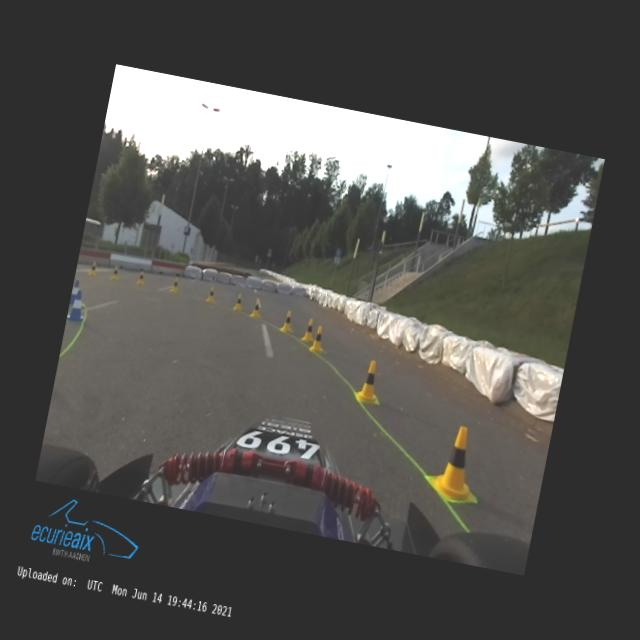blue_cone: (66, 289, 88, 323), (70, 280, 81, 305)
yellow_cone: (428, 422, 486, 503), (354, 358, 386, 404), (310, 325, 328, 353), (301, 318, 317, 342), (280, 310, 295, 332), (250, 298, 262, 318), (233, 292, 244, 310), (206, 285, 217, 302), (110, 265, 120, 280), (136, 270, 146, 285), (88, 261, 98, 276), (171, 278, 180, 292)
